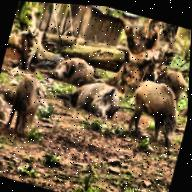boar: (56, 77, 149, 150), (116, 68, 189, 150), (0, 56, 55, 153), (43, 48, 99, 90)
